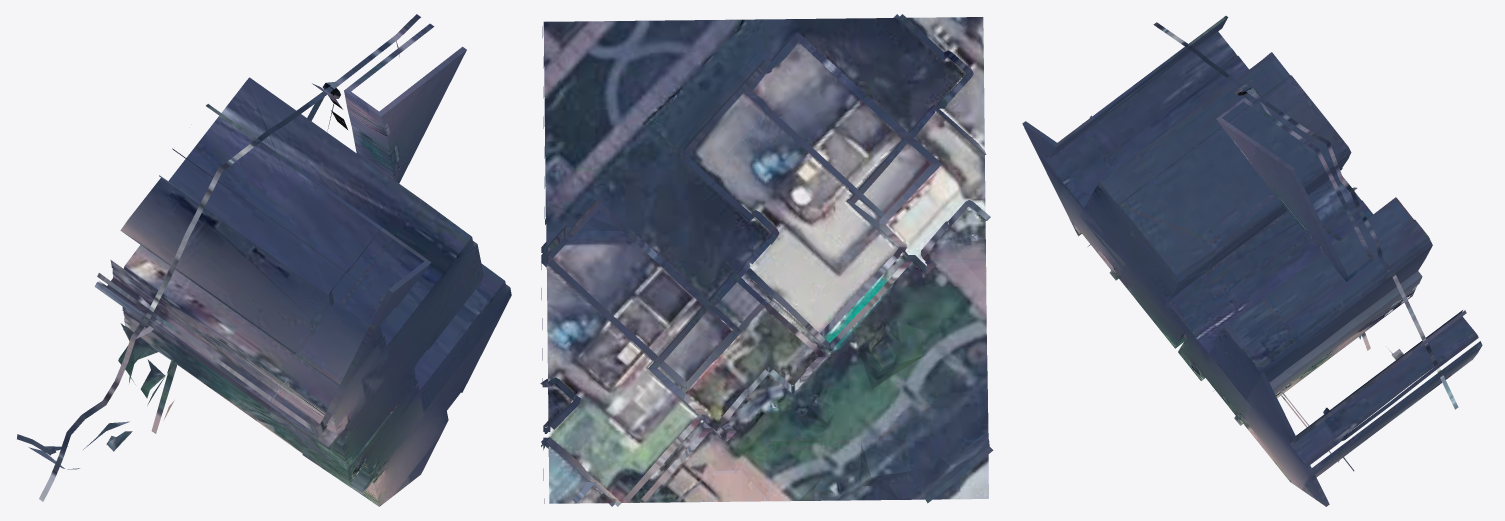
The picture shows the model from 3 angles, left to right: view 1: azimuth 30°, elevation 25°; view 2: azimuth 150°, elevation 25°; view 3: azimuth 270°, elevation 25°; orthographic projection. The views are drawn at different scales.
Size of the model in its own units: 44.51 by 44.6 by 49.09.
2 materials, 2 textured.
